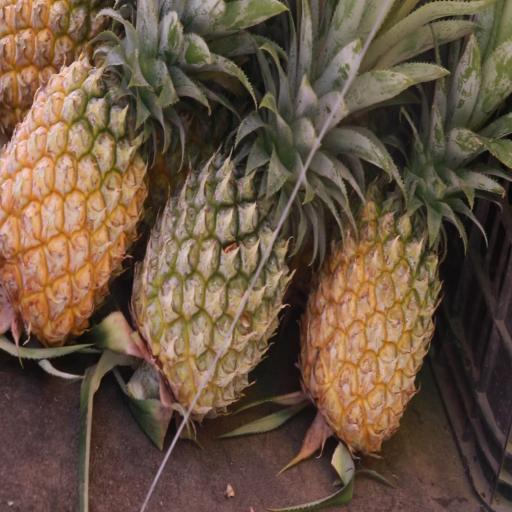Pineapple - v8 v1: (298, 78, 444, 452), (0, 14, 149, 368)
